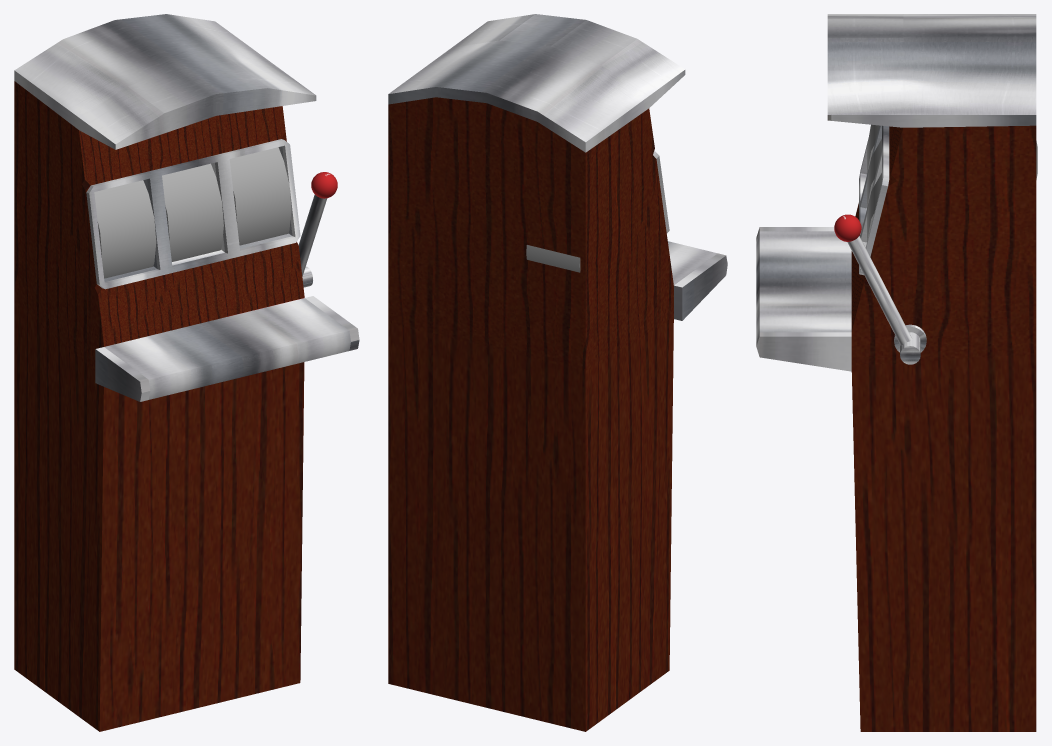
File: slotMachine1.fbx
3 views of the same model, side by side, from view 1: azimuth 30°, elevation 25°; view 2: azimuth 150°, elevation 25°; view 3: azimuth 270°, elevation 25° (orthographic). The views are drawn at different scales.
Visible parts, largest first — view 1: pSphere10; view 2: pSphere10; view 3: pSphere10.
Part boxes in pixels (x1,y1,x2,y2): pSphere10: (14, 14, 359, 731); pSphere10: (388, 14, 727, 731); pSphere10: (756, 14, 1037, 731).
Size of the model in its own units: 2.4 by 5.95 by 2.36.
